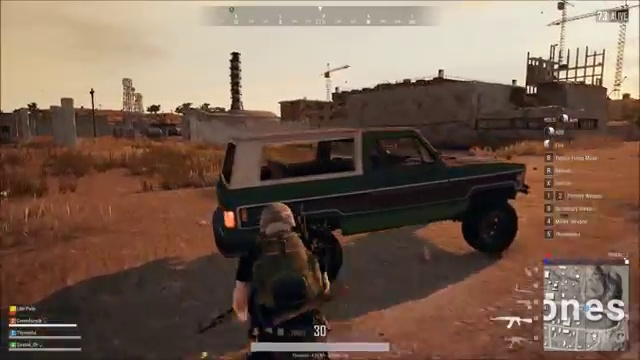Player: (227, 203, 356, 322)
